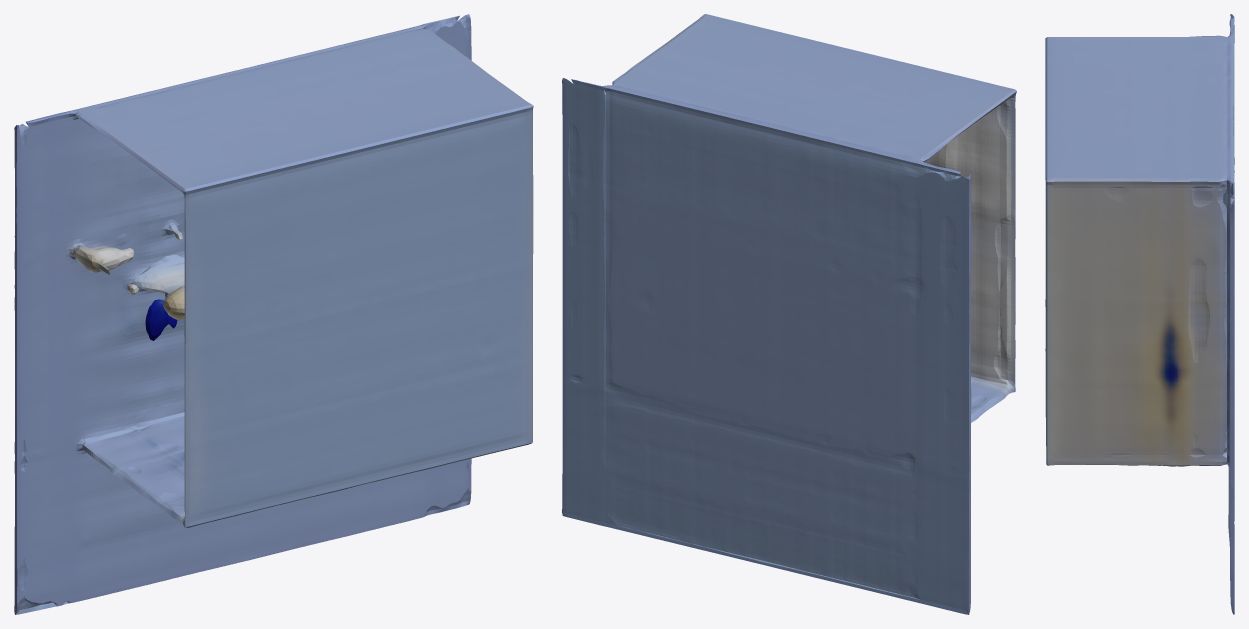
3 views of the same model, side by side, from view 1: azimuth 30°, elevation 25°; view 2: azimuth 150°, elevation 25°; view 3: azimuth 270°, elevation 25° (orthographic). The views are drawn at different scales.
Visible parts, largest first — view 1: model.ply; view 2: model.ply; view 3: model.ply.
Boxes of the visible parts, x1,y1,x2,y2 form: model.ply: (14, 14, 533, 614); model.ply: (562, 14, 1016, 614); model.ply: (1045, 14, 1234, 614).
Size of the model in its own units: 1.92 by 1.98 by 0.8177.
